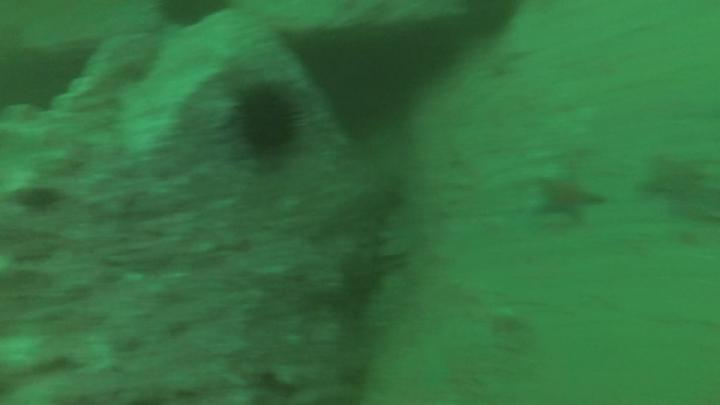echinus: (240, 90, 296, 148)
starfish: (538, 172, 604, 222)
